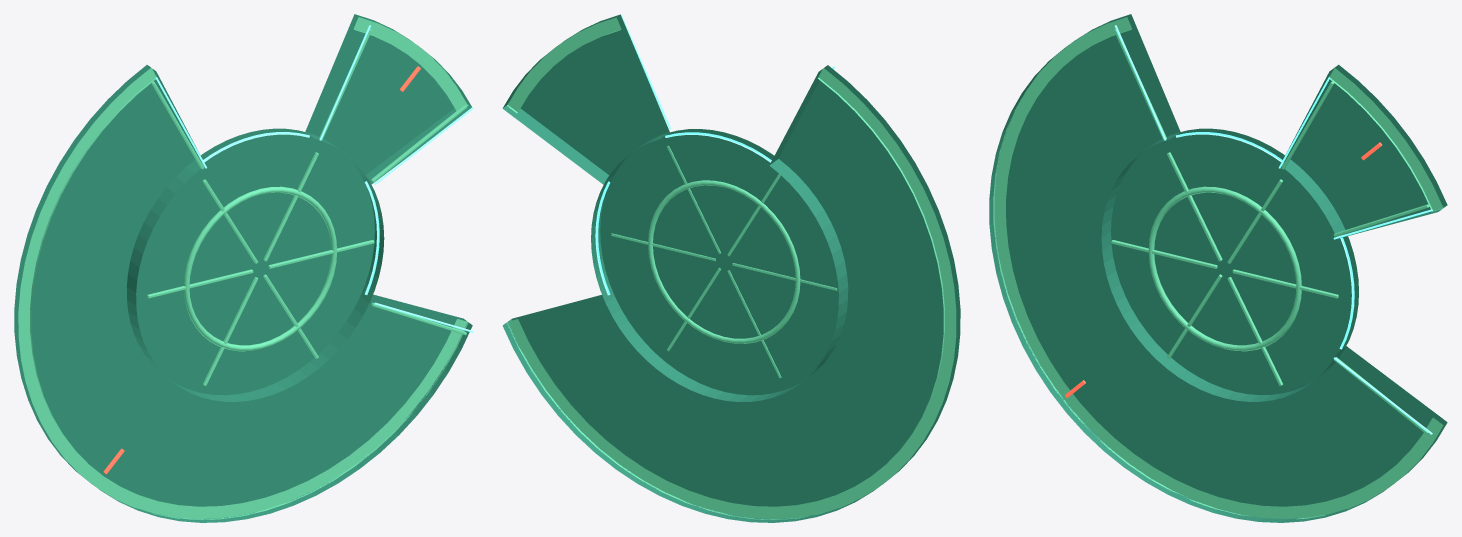
File: bio-panel-fun5-high.glb
The picture shows the model from 3 angles, left to right: view 1: azimuth 30°, elevation 25°; view 2: azimuth 150°, elevation 25°; view 3: azimuth 330°, elevation 25°; orthographic projection.
Parts seen in each view (by area): view 1: RENDER_PANEL_SHELL, RENDER_PANEL_FRAME, RENDER_PANEL_SIGNAL; view 2: RENDER_PANEL_SHELL, RENDER_PANEL_FRAME, RENDER_PANEL_SIGNAL; view 3: RENDER_PANEL_SHELL, RENDER_PANEL_FRAME, RENDER_PANEL_SIGNAL.
Part boxes in pixels (x1,y1,x2,y2): RENDER_PANEL_SHELL: (14, 14, 472, 522); RENDER_PANEL_FRAME: (18, 17, 468, 519); RENDER_PANEL_SIGNAL: (155, 25, 473, 332); RENDER_PANEL_SHELL: (502, 14, 960, 522); RENDER_PANEL_FRAME: (507, 17, 956, 519); RENDER_PANEL_SIGNAL: (595, 14, 834, 295); RENDER_PANEL_SHELL: (989, 14, 1447, 522); RENDER_PANEL_FRAME: (993, 17, 1443, 519); RENDER_PANEL_SIGNAL: (1114, 25, 1432, 434).
Size of what is drawn, in the model's own units: 38.91 by 38.91 by 1.95.
